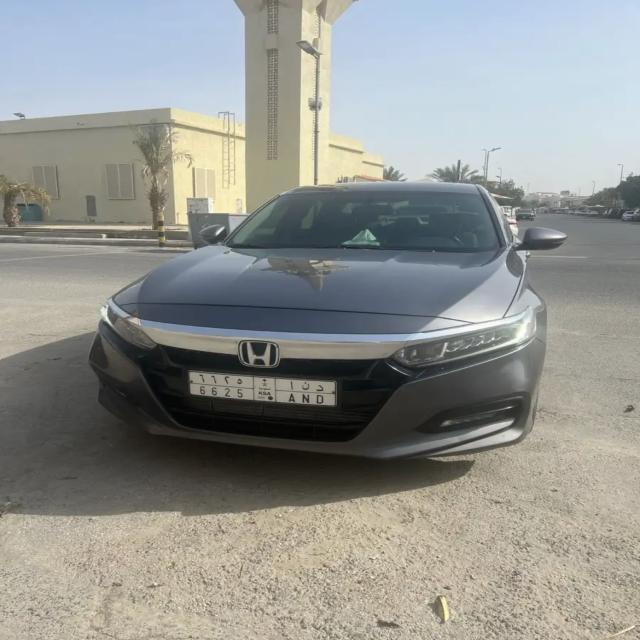license_plate: (187, 367, 343, 410)
